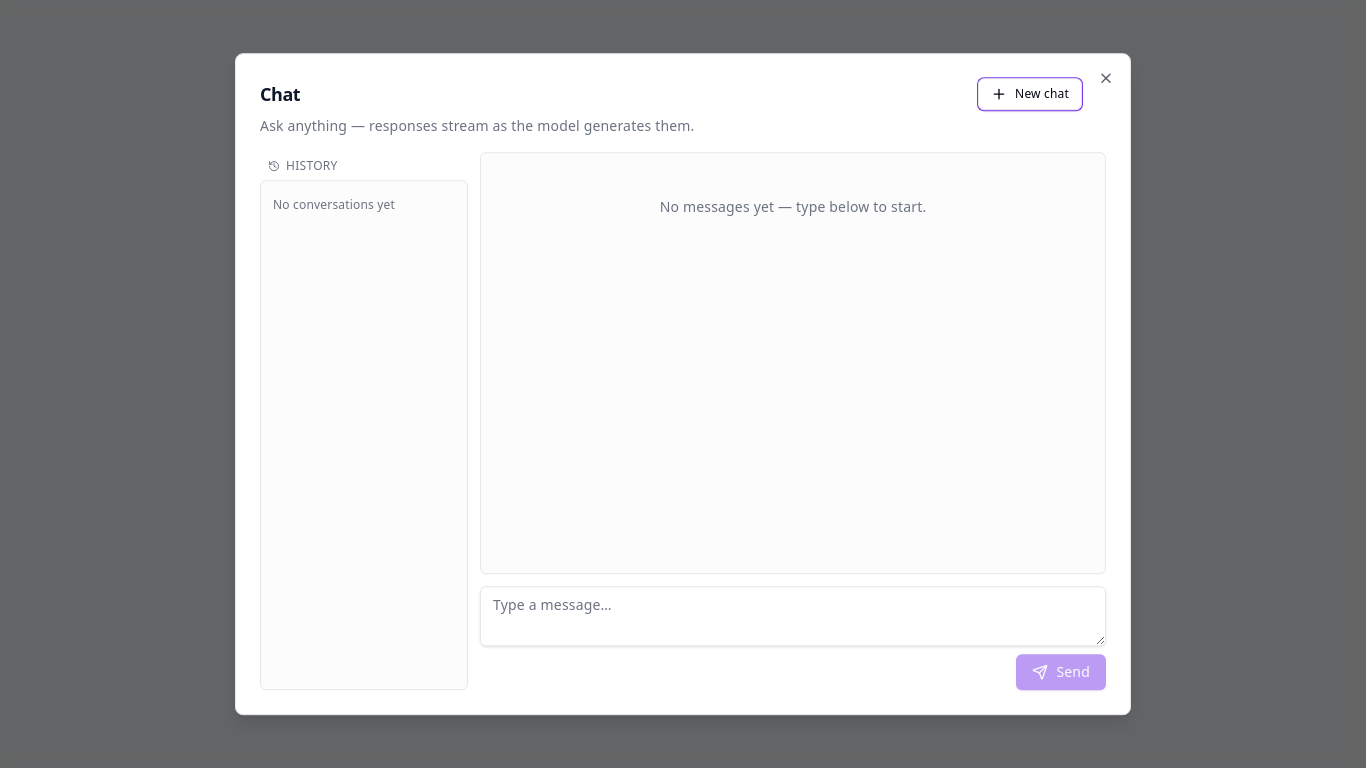
Test: ChatPanel agent steps › streams steps into the panel as events arrive
The image size is (1366, 768).
Type "list them" into the text box with test id "chat-input" at (793, 616), box [480,586,1106,646]
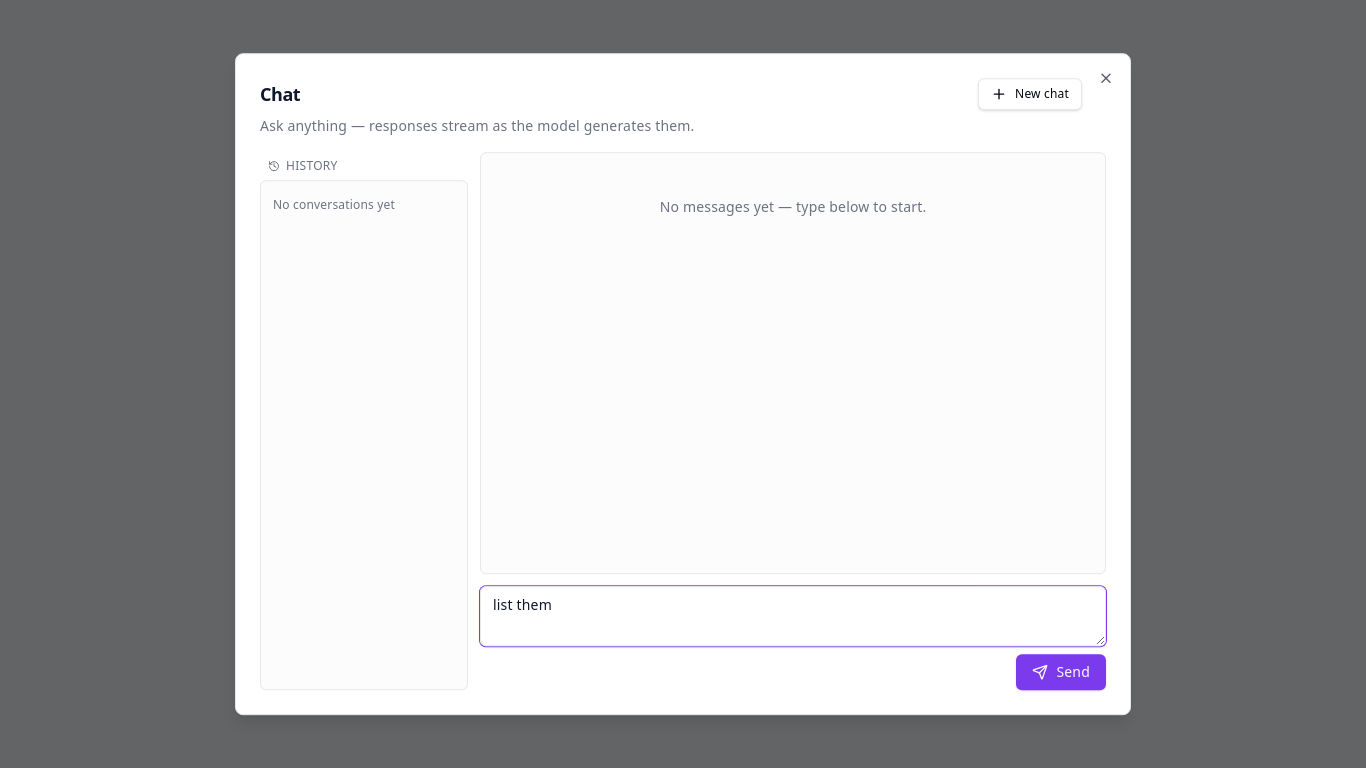
Click the button with test id "chat-send" at (1061, 672), box [1016,654,1106,690]
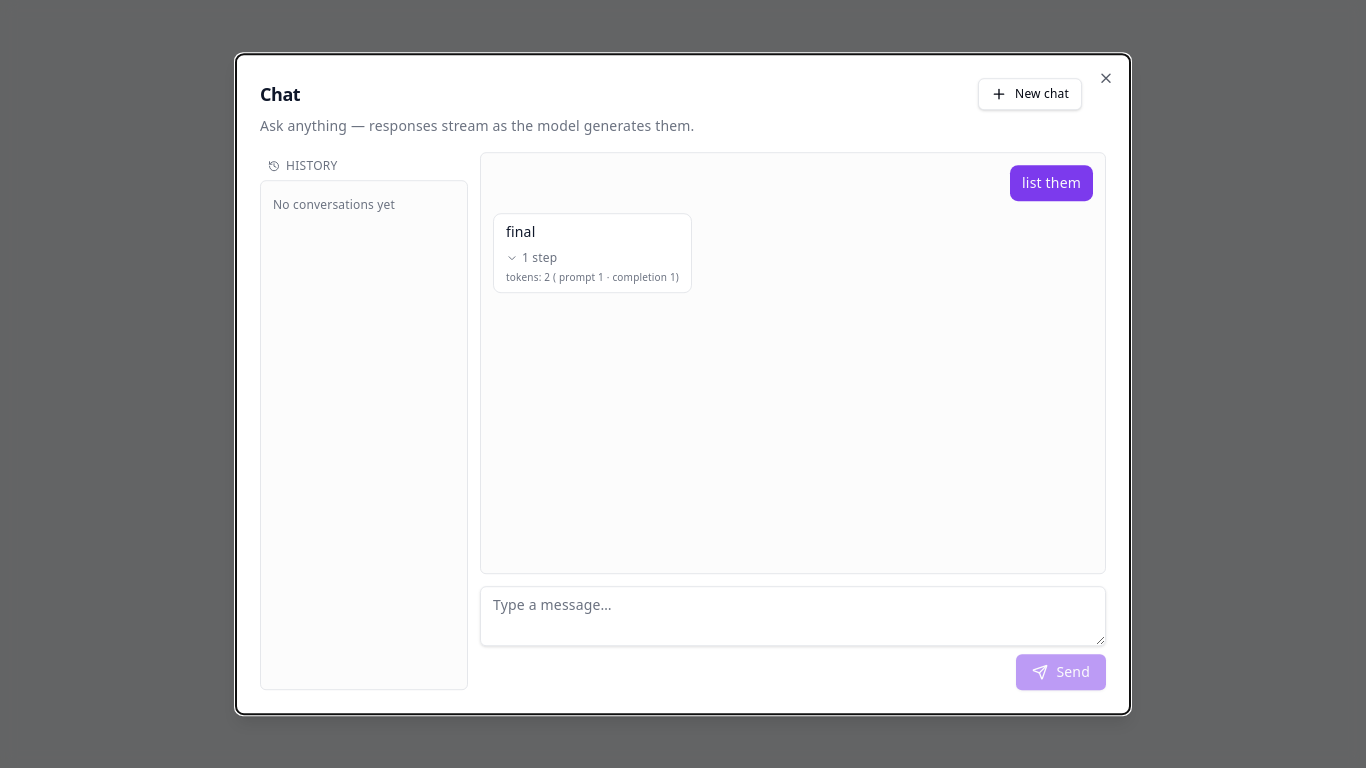
Now the element with test id "chat-agent-steps" is shown, box [506,249,557,266]
Now the element with test id "chat-message-assistant" shows "final", box [506,222,539,241]
